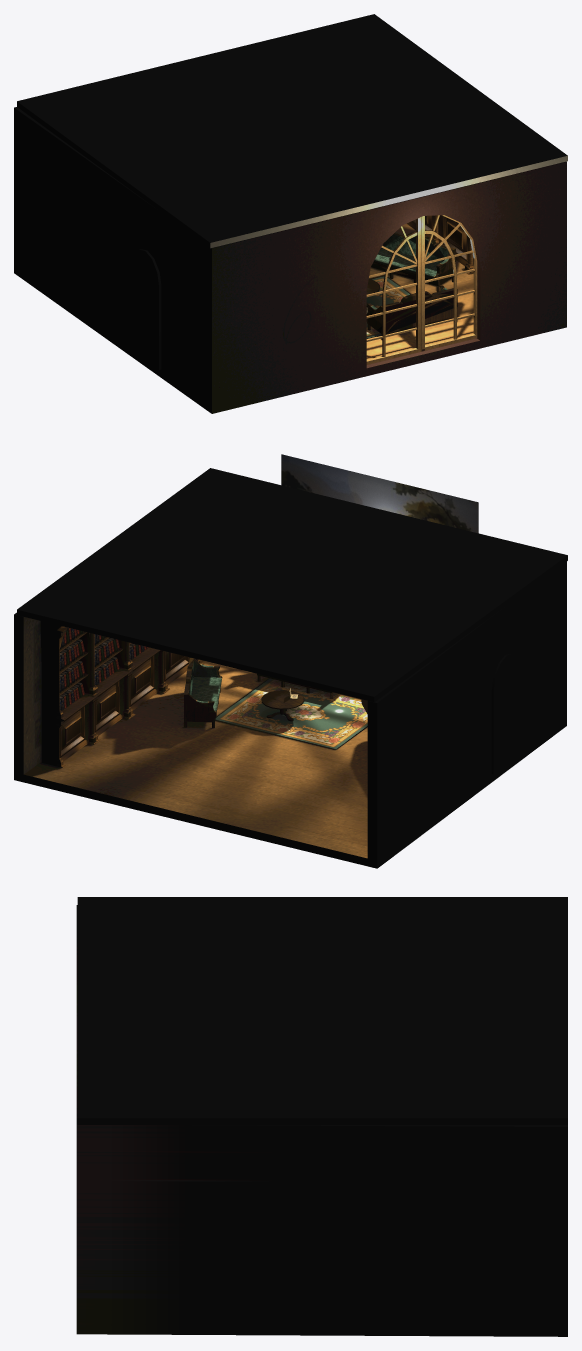
The picture shows the model from 3 angles, top to bottom: view 1: azimuth 30°, elevation 25°; view 2: azimuth 150°, elevation 25°; view 3: azimuth 270°, elevation 25°; orthographic projection. The views are drawn at different scales.
Parts seen in each view (by area): view 1: 1697_groupe4.1, 1697_gourpe8.1, 1697_groupe3.1, 1697_goupe10.1, 1697_groupe2.1; view 2: 1697_groupe4.1, 1697_goupe10.1, fond_fenetre, 1697_groupe2.1, 1697_gourpe8.1, 1697_groupe3.1, 1697_groupe9.1; view 3: 1697_groupe4.1.
Boxes of the visible parts, x1,y1,x2,y2 form: 1697_groupe4.1: (14, 14, 567, 413); 1697_gourpe8.1: (131, 215, 477, 369); 1697_groupe3.1: (366, 231, 457, 339); 1697_goupe10.1: (407, 215, 473, 274); 1697_groupe2.1: (366, 276, 445, 338); 1697_groupe4.1: (14, 468, 567, 868); 1697_goupe10.1: (40, 621, 204, 767); fond_fenetre: (281, 454, 478, 533); 1697_groupe2.1: (215, 678, 367, 749); 1697_gourpe8.1: (491, 653, 520, 774); 1697_groupe3.1: (184, 658, 333, 728); 1697_groupe9.1: (261, 690, 304, 721); 1697_groupe4.1: (76, 897, 567, 1336).
Bounding box in the file's own units: 9.65 × 5.05 × 10.05.
Materials: 10 (10 with a texture image).
